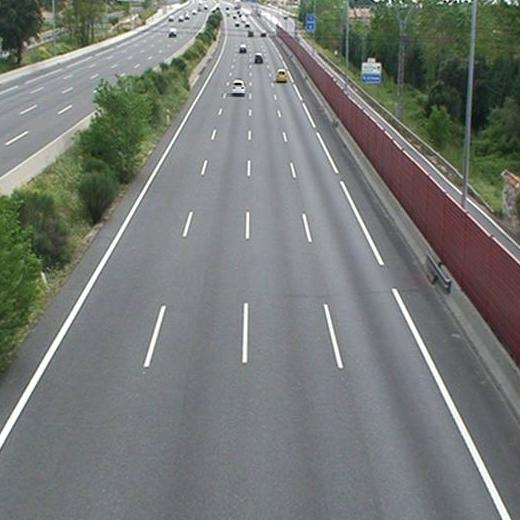car: (231, 80, 245, 94), (275, 70, 287, 82), (254, 53, 264, 63), (239, 45, 246, 53)
